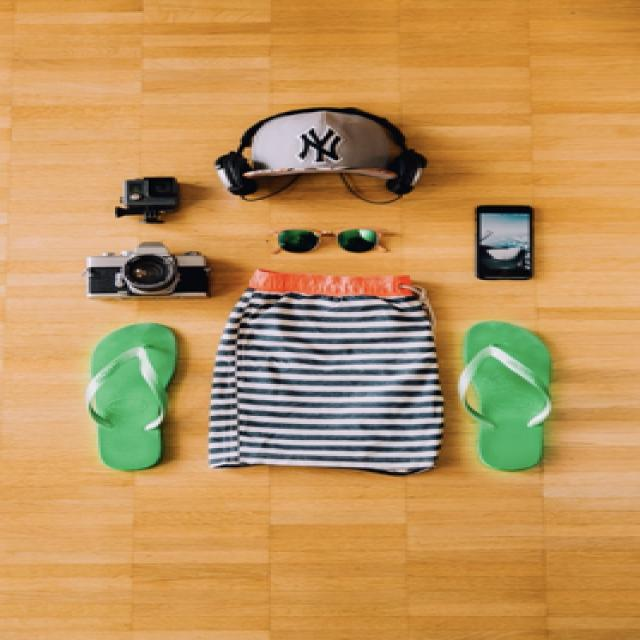cellphone: (475, 203, 532, 280)
